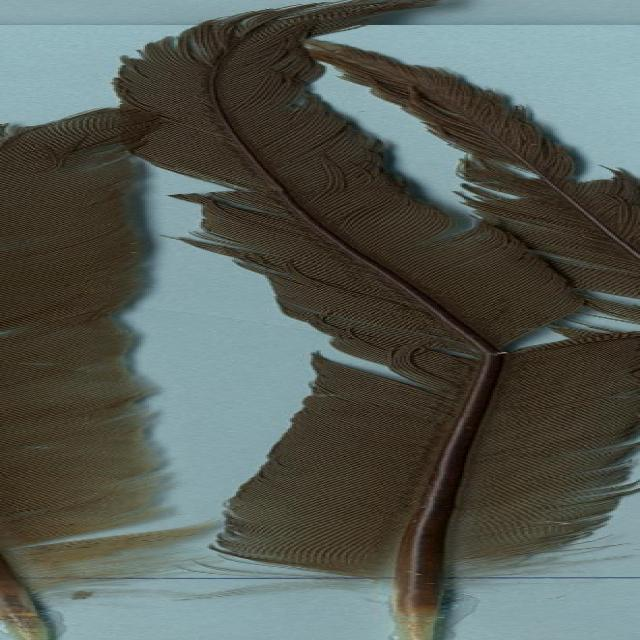feather: (93, 1, 640, 640), (0, 105, 211, 640)
